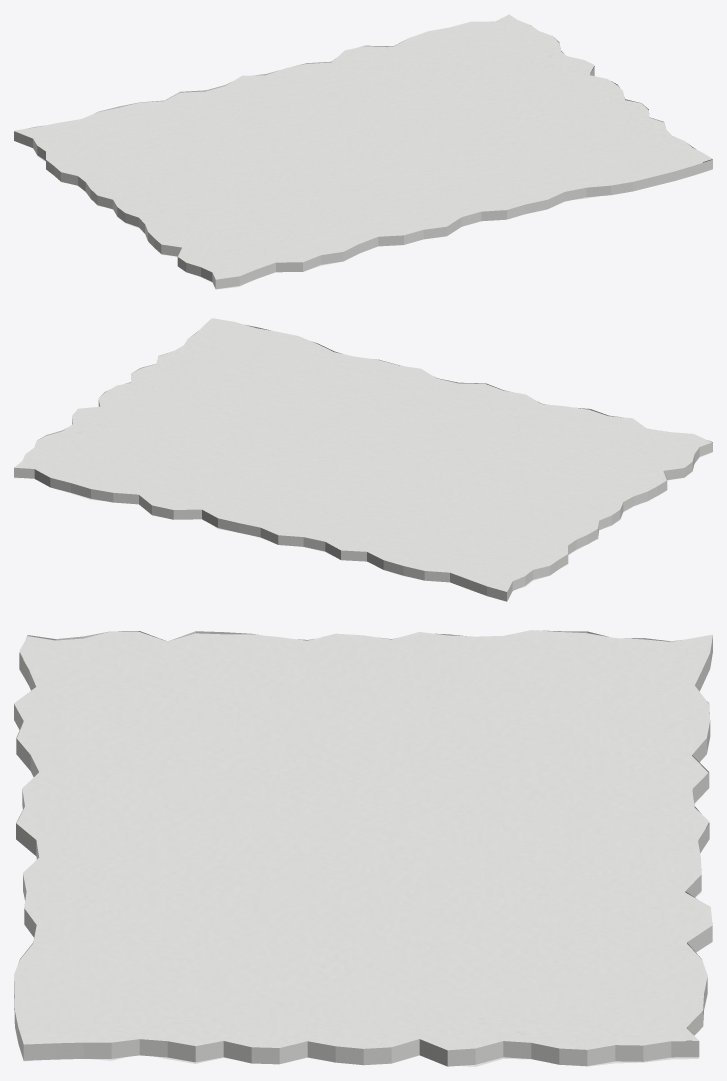
Rendered from cotton_paper_1.glb.
3 views of the same model, one above another, from view 1: azimuth 30°, elevation 25°; view 2: azimuth 150°, elevation 25°; view 3: azimuth 270°, elevation 25° (orthographic). The views are drawn at different scales.
Bounding box in the file's own units: 2.49 × 0.0565 × 1.75.
Materials: 1 (1 with a texture image).
